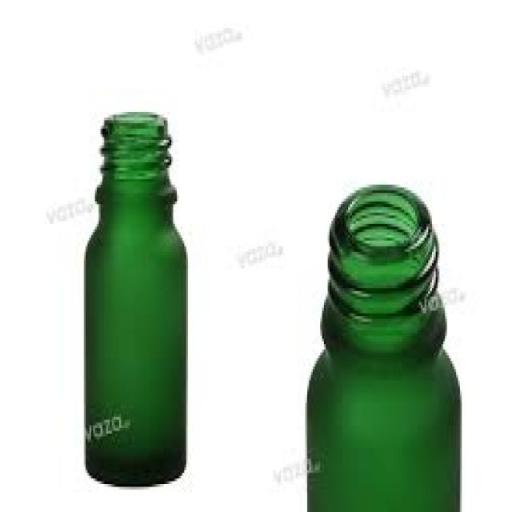glass: (307, 187, 461, 512), (76, 110, 193, 485)
